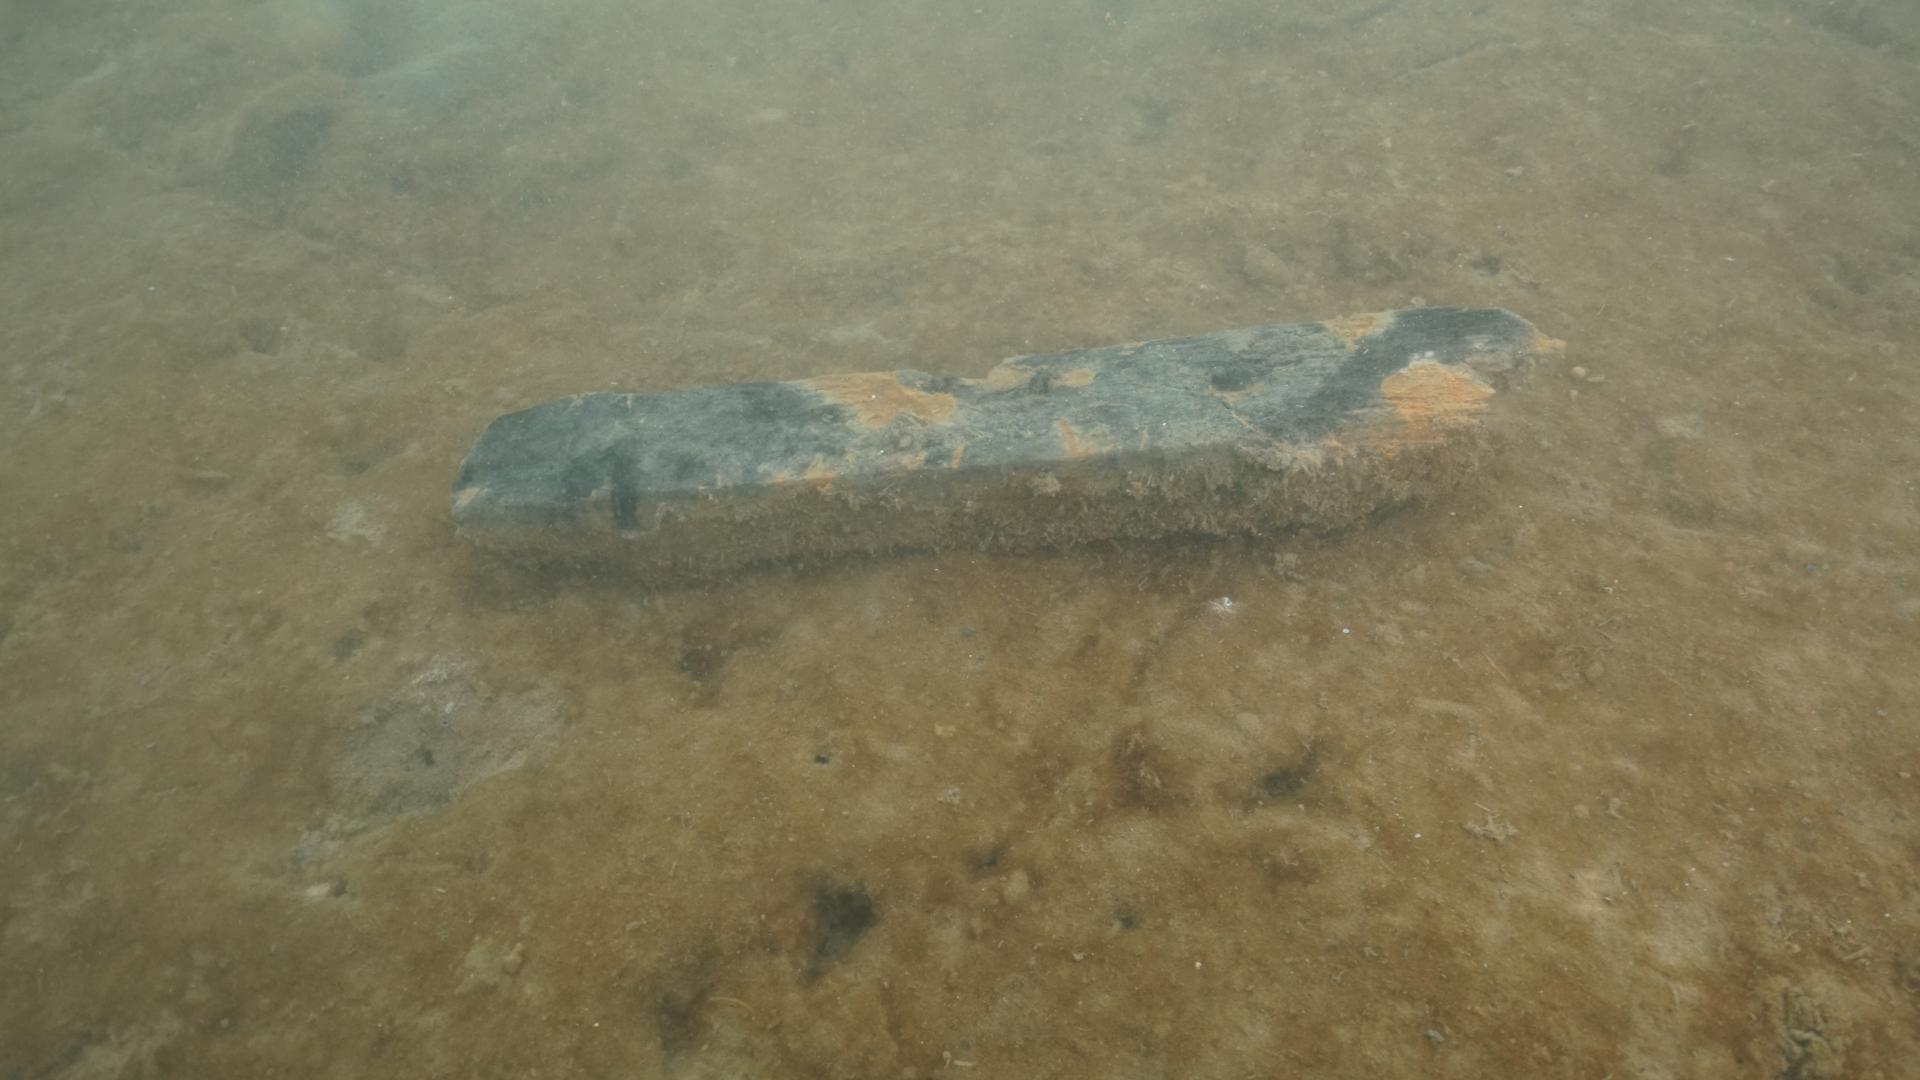wood: (444, 297, 1568, 582)
